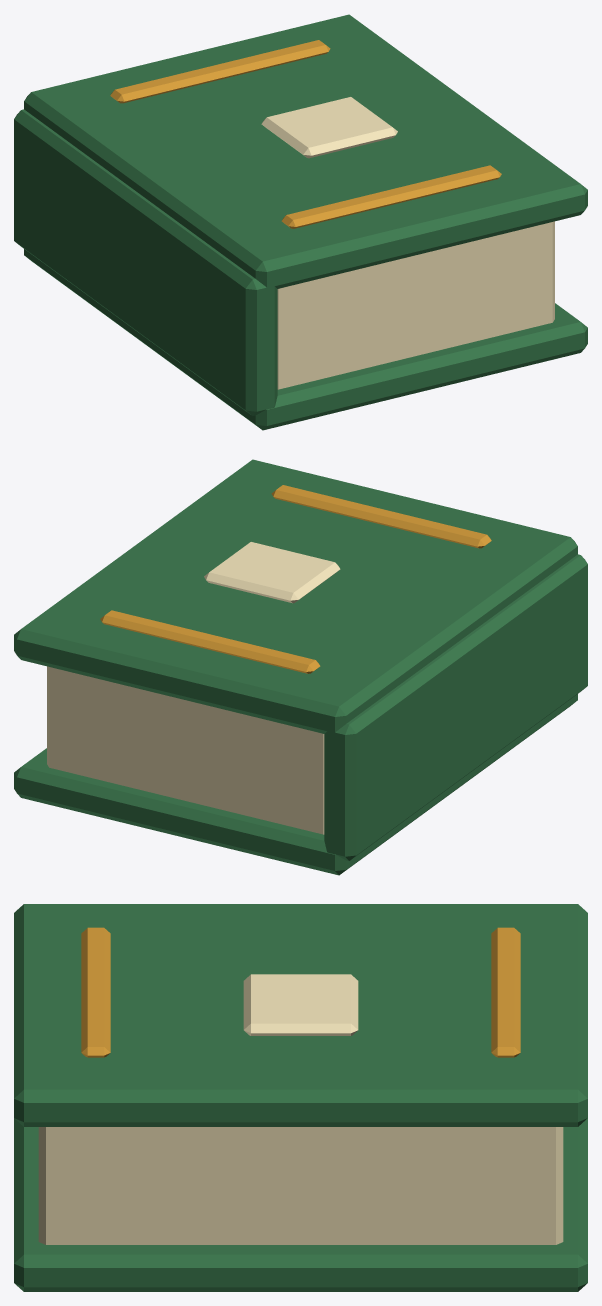
File: green_book.glb
The picture shows the model from 3 angles, top to bottom: view 1: azimuth 30°, elevation 25°; view 2: azimuth 150°, elevation 25°; view 3: azimuth 270°, elevation 25°; orthographic projection. The views are drawn at different scales.
Visible parts, largest first — view 1: green_book__body__green, green_book__body__linen, green_book__body__brass; view 2: green_book__body__green, green_book__body__linen, green_book__body__brass; view 3: green_book__body__green, green_book__body__linen, green_book__body__brass.
Boxes of the visible parts, box(x1,y1,x2,y2) form: green_book__body__green: box(14, 14, 587, 430); green_book__body__linen: box(261, 97, 554, 389); green_book__body__brass: box(110, 40, 501, 228); green_book__body__green: box(14, 459, 587, 875); green_book__body__linen: box(47, 542, 340, 834); green_book__body__brass: box(100, 485, 491, 673); green_book__body__green: box(14, 904, 587, 1291); green_book__body__linen: box(38, 974, 563, 1244); green_book__body__brass: box(81, 927, 520, 1057).
Bounding box in the file's own units: 0.2885 × 0.144 × 0.35.
